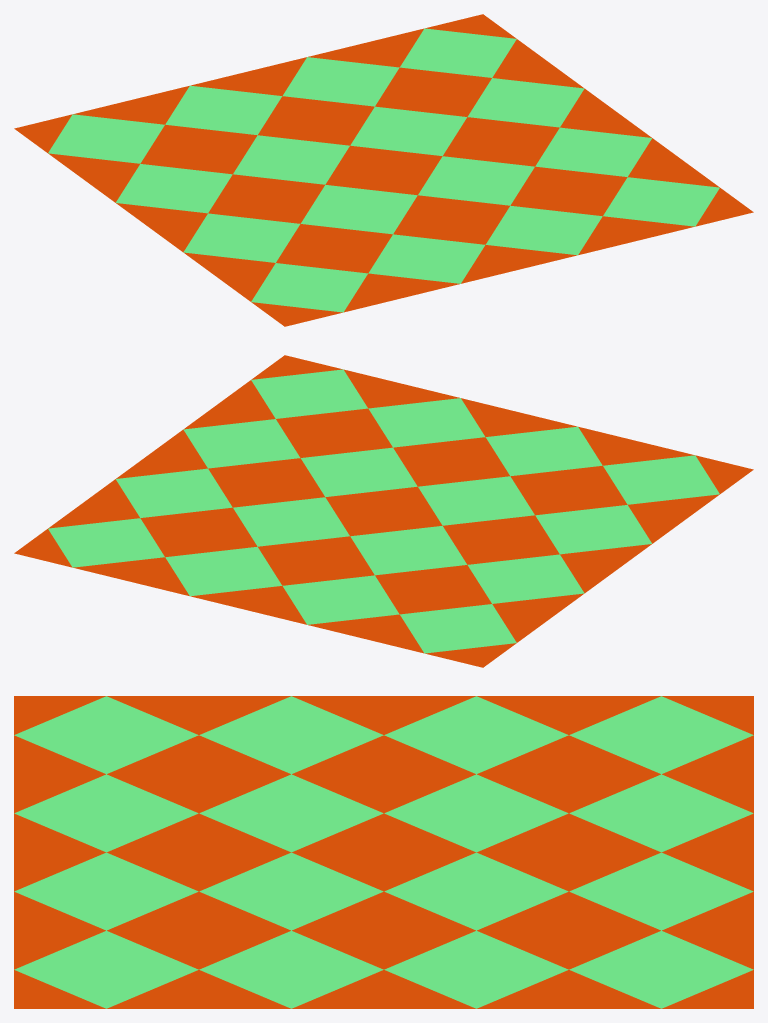
Rendered from top_3.FBX.
The picture shows the model from 3 angles, top to bottom: view 1: azimuth 30°, elevation 25°; view 2: azimuth 150°, elevation 25°; view 3: azimuth 270°, elevation 25°; orthographic projection. The views are drawn at different scales.
Visible parts, largest first — view 1: Object002; view 2: Object002; view 3: Object002.
Boxes of the visible parts, bbox=[...] form: Object002: bbox=[14, 14, 753, 326]; Object002: bbox=[14, 355, 753, 667]; Object002: bbox=[14, 696, 753, 1008].
Bounding box in the file's own units: 10 × 4.37e-07 × 10.
